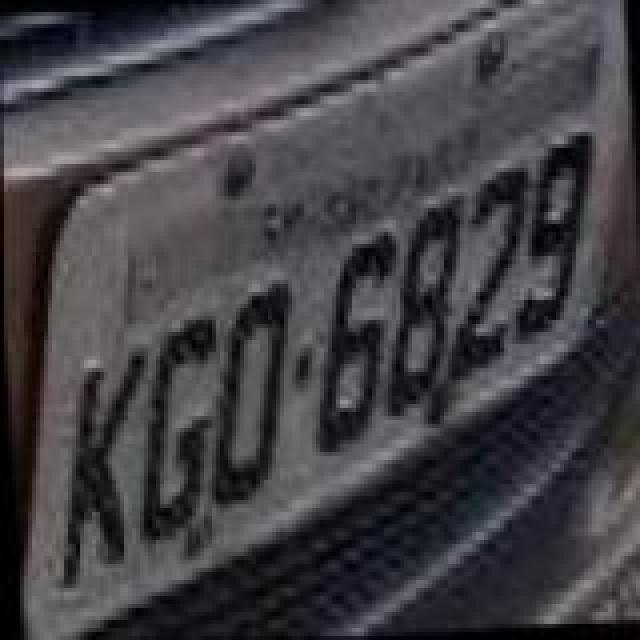2: (436, 166, 548, 386)
6: (300, 226, 412, 458)
8: (374, 202, 474, 414)
9: (498, 132, 606, 348)
G: (124, 306, 232, 542)
K: (44, 344, 164, 592)
O: (196, 288, 304, 512)
